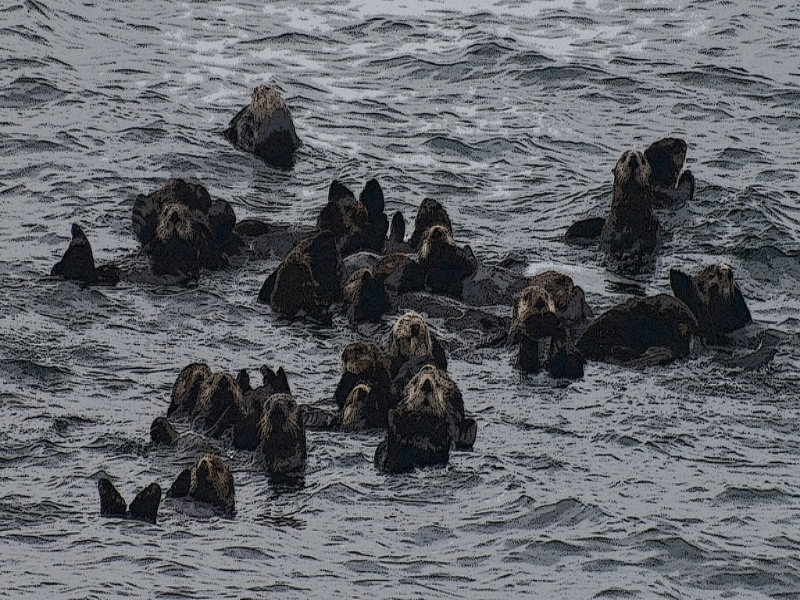minkish: (388, 376, 460, 437), (176, 455, 238, 521), (390, 307, 439, 369), (610, 149, 660, 206), (153, 202, 200, 251), (511, 284, 555, 330), (261, 392, 305, 438), (169, 359, 210, 398), (202, 374, 240, 411)
